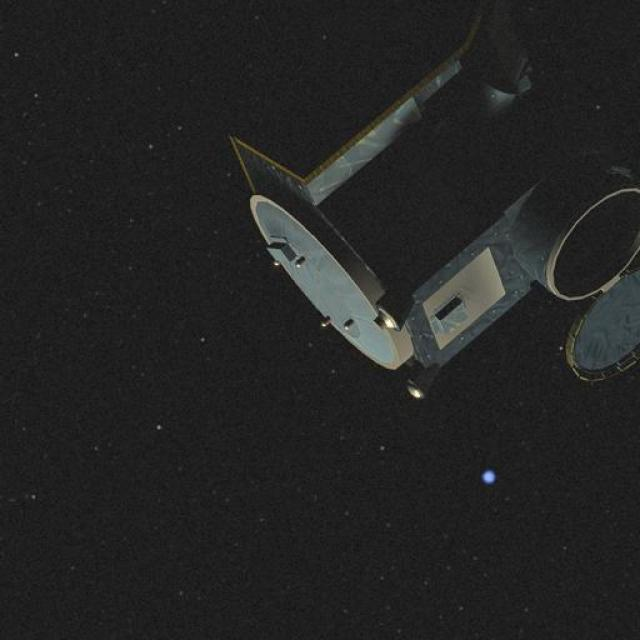cheops: (209, 22, 640, 394)
